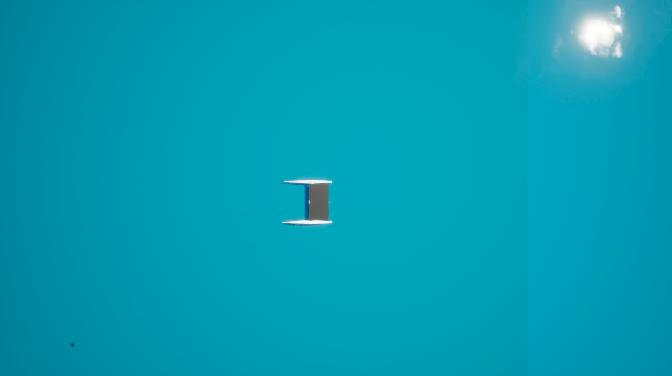boat: (283, 178, 333, 228)
drone: (69, 340, 76, 349)
land_base: (310, 186, 329, 219)
light_reflex: (542, 1, 648, 82)
